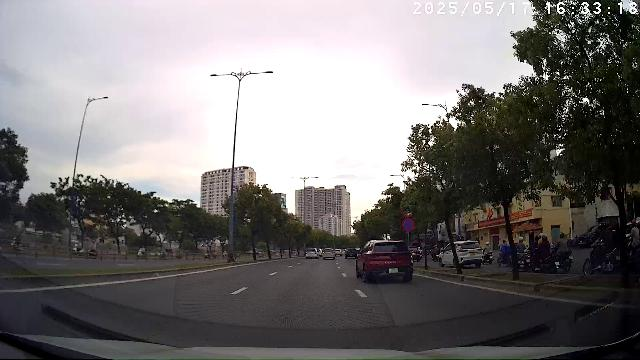130-cam-dung-va-do-xe: (402, 218, 414, 232)
